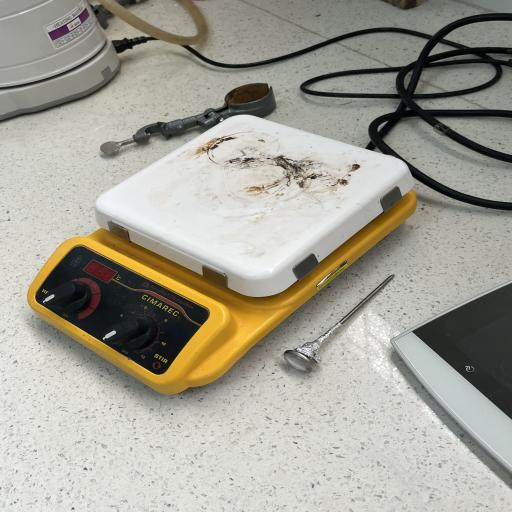Plancha_Agitacion_Cimarec: (17, 107, 434, 405)
